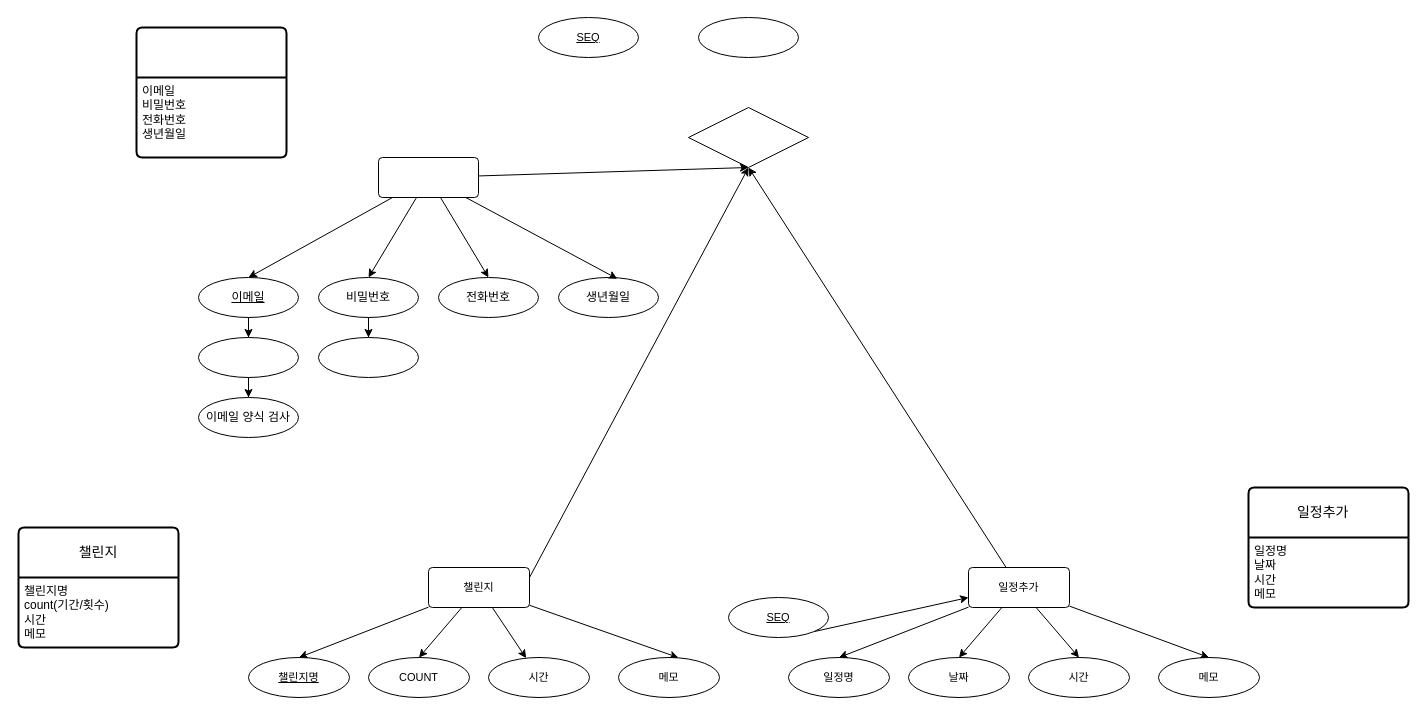
Image size: 1426x715. Some labels were removed from this diagram. Here are the shapes that lost their labels. From the top down, the box of each, then its label:
(135, 26, 287, 158): 회원정보
(688, 106, 808, 168): 공유하기
(378, 156, 478, 198): 회원 정보
(198, 336, 298, 378): 중복 이메일 검사
(318, 336, 418, 378): 비밀번호 확인
